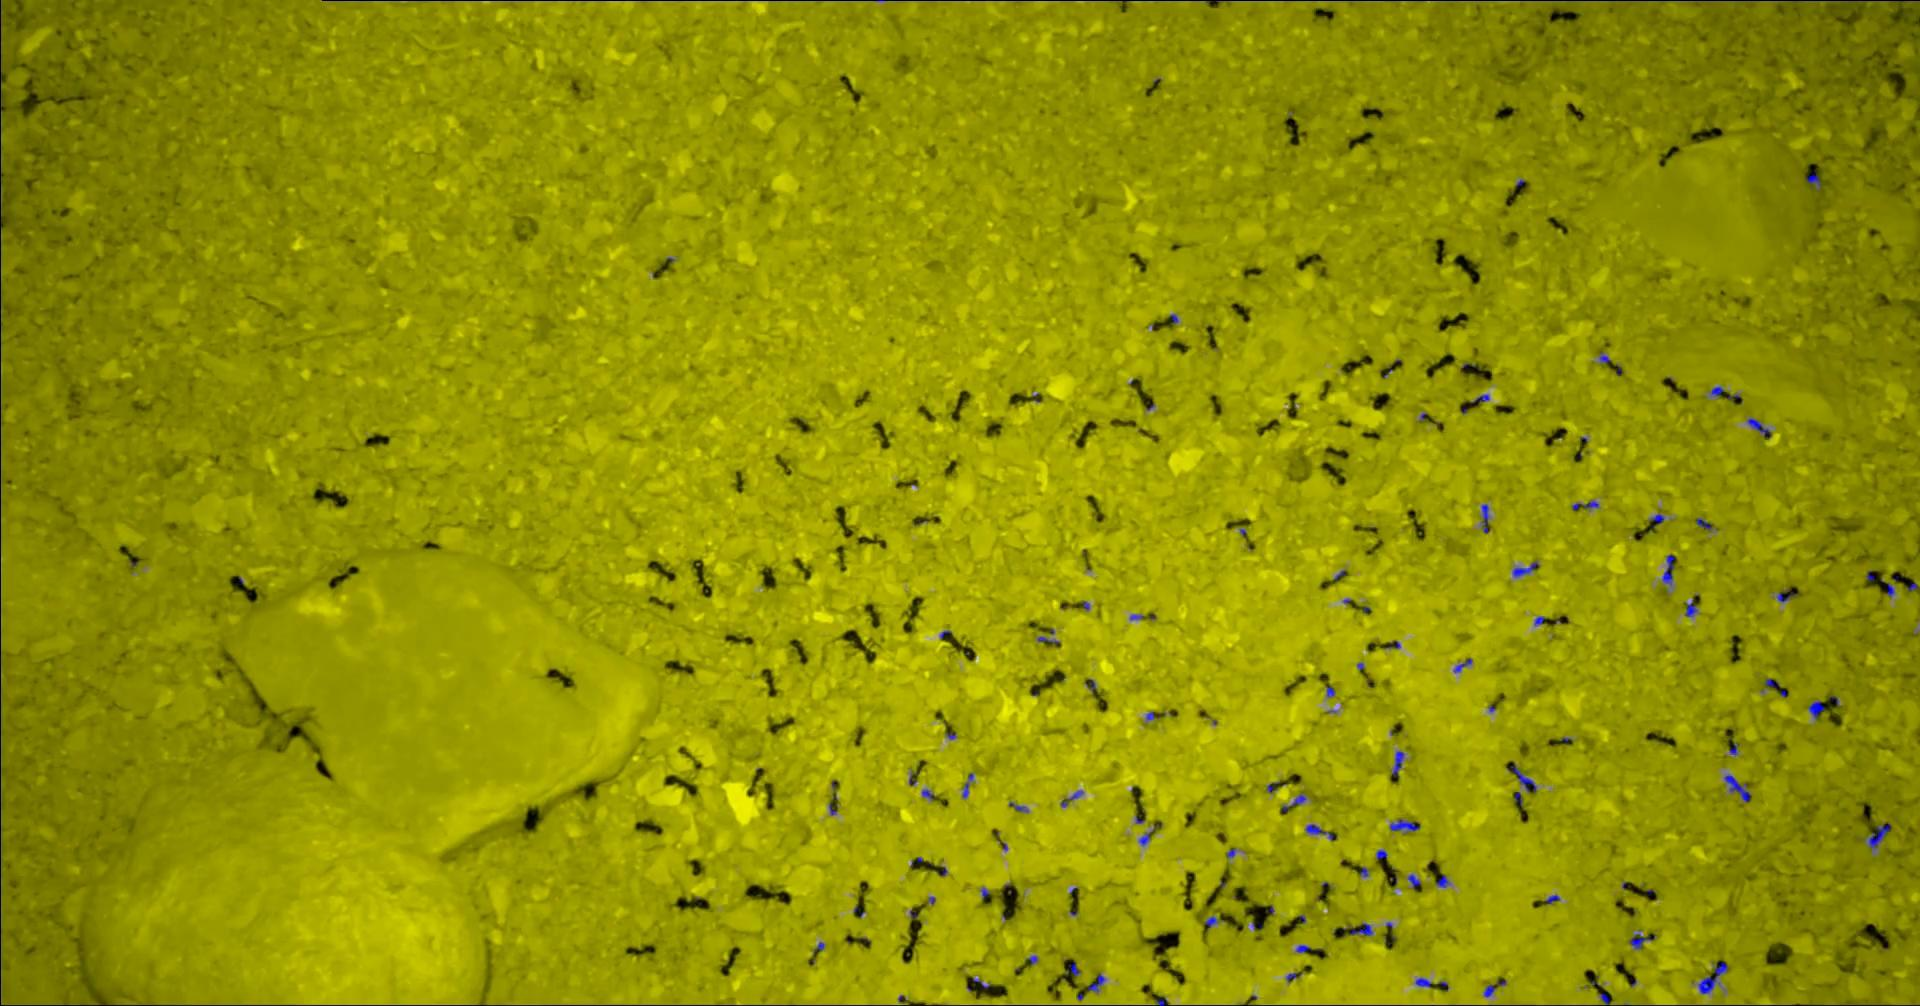ant: (1697, 962, 1727, 995), (1723, 774, 1750, 801), (1863, 823, 1890, 848), (1512, 763, 1537, 791), (1747, 417, 1770, 437), (1305, 823, 1333, 840), (1512, 561, 1539, 577), (1661, 554, 1674, 586), (1629, 934, 1655, 949), (1764, 678, 1785, 696), (1389, 818, 1418, 831), (1483, 981, 1505, 997), (1390, 749, 1403, 775), (1807, 700, 1823, 719), (1087, 973, 1103, 992), (961, 772, 973, 796), (1804, 173, 1820, 191), (1571, 500, 1597, 511), (1349, 923, 1371, 935), (1775, 589, 1796, 602), (1481, 503, 1488, 533), (1650, 513, 1663, 527), (1695, 517, 1712, 528), (1685, 600, 1697, 616), (1415, 977, 1431, 987), (1435, 875, 1449, 887), (1709, 386, 1724, 396), (1784, 0, 1879, 1)
